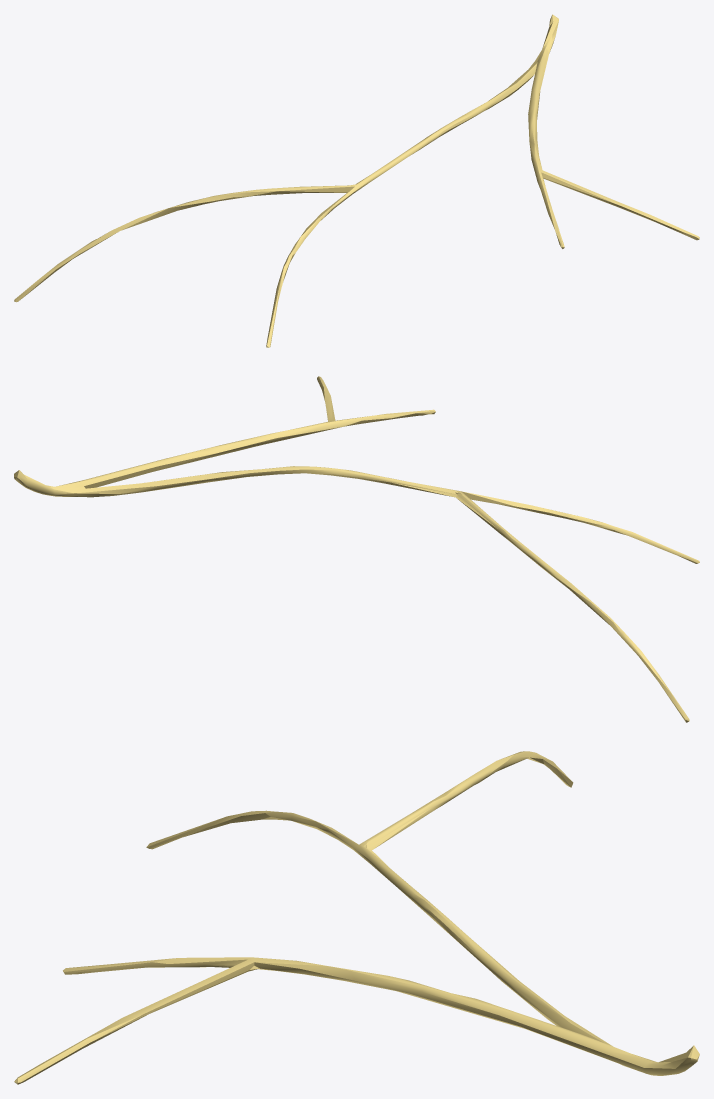
The model's file is fma75533_fj4291.glb.
3 views of the same model, one above another, from view 1: azimuth 30°, elevation 25°; view 2: azimuth 150°, elevation 25°; view 3: azimuth 270°, elevation 25° (orthographic). The views are drawn at different scales.
Parts seen in each view (by area): view 1: FMA75533_FJ4291; view 2: FMA75533_FJ4291; view 3: FMA75533_FJ4291.
Boxes of the visible parts, x1,y1,x2,y2 form: FMA75533_FJ4291: (14,14,699,347); FMA75533_FJ4291: (14,376,699,722); FMA75533_FJ4291: (14,751,699,1084).
Size of the model in its own units: 0.0722 by 0.0142 by 0.0459.
